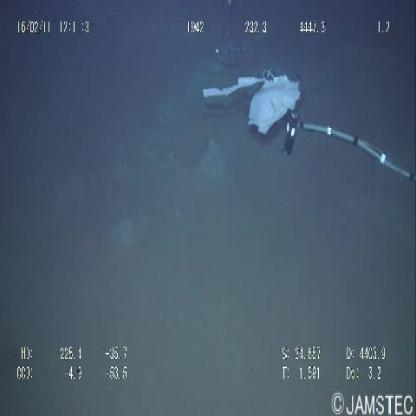Rác: (201, 70, 302, 140)
